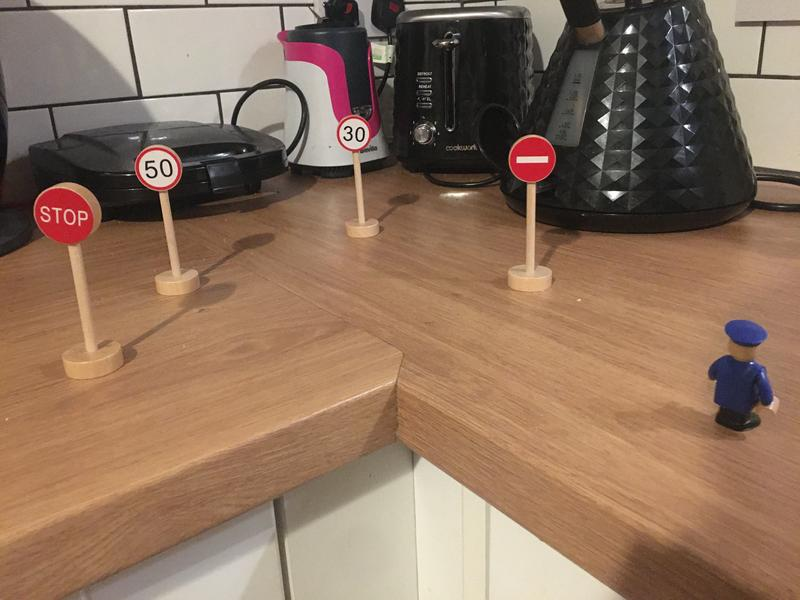Traffic_Sign_30: (337, 114, 370, 151)
Traffic_Sign_50: (135, 146, 183, 192)
Traffic_Sign_No_Entry: (510, 135, 555, 180)
Traffic_Sign_Stop: (33, 186, 94, 246)
person: (704, 316, 784, 440)
